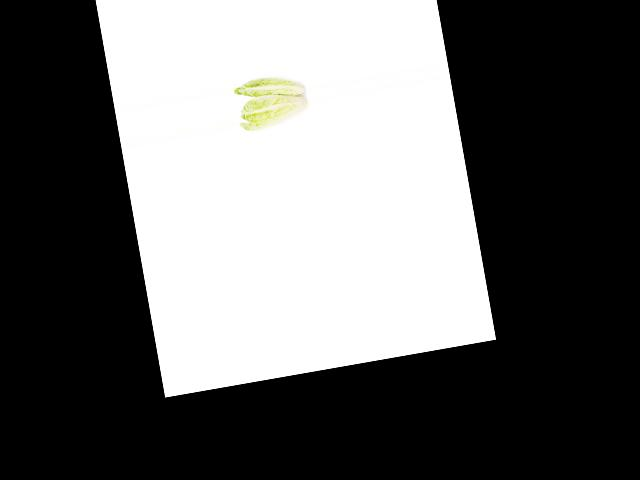lettuce: (230, 63, 310, 107)
